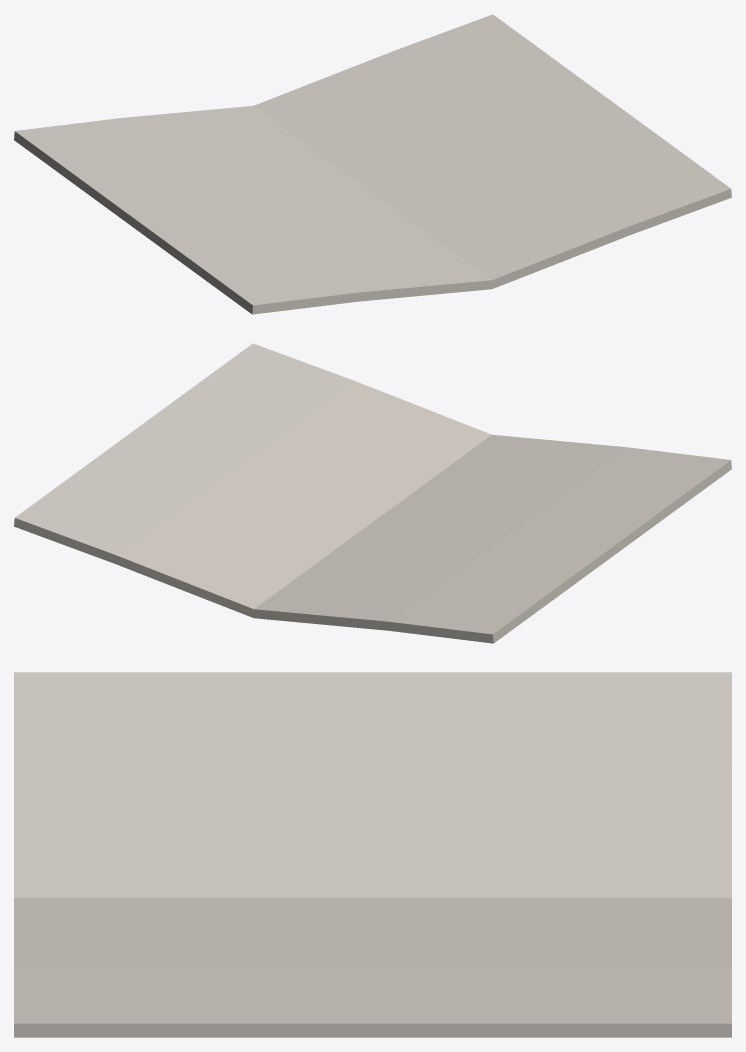
File: Int_MusicRoomPaper01.fbx
The picture shows the model from 3 angles, top to bottom: view 1: azimuth 30°, elevation 25°; view 2: azimuth 150°, elevation 25°; view 3: azimuth 270°, elevation 25°; orthographic projection. The views are drawn at different scales.
Visible parts, largest first — view 1: Int_MusicRoomPaper01; view 2: Int_MusicRoomPaper01; view 3: Int_MusicRoomPaper01.
Boxes of the visible parts, x1,y1,x2,y2 form: Int_MusicRoomPaper01: (14, 14, 731, 314); Int_MusicRoomPaper01: (14, 343, 731, 643); Int_MusicRoomPaper01: (14, 672, 731, 1037).
Size of what is drawn, in the model's own units: 31.06 by 26.73 by 2.6.
